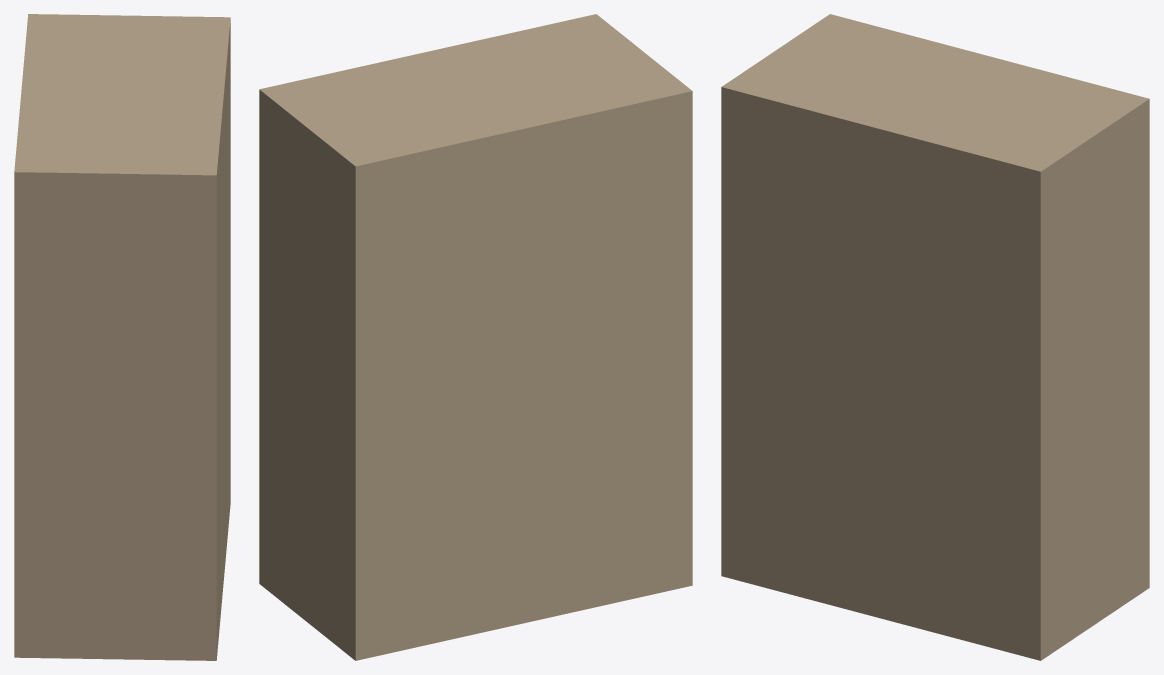
File: bld_101289705.dae
3 views of the same model, side by side, from view 1: azimuth 30°, elevation 25°; view 2: azimuth 150°, elevation 25°; view 3: azimuth 270°, elevation 25° (orthographic).
Parts seen in each view (by area): view 1: bld_101289705; view 2: bld_101289705; view 3: bld_101289705.
Boxes of the visible parts, box(x1,y1,x2,y2) form: bld_101289705: box(14, 14, 230, 660); bld_101289705: box(259, 14, 692, 660); bld_101289705: box(721, 14, 1149, 660).
Size of the model in its own units: 5.53 by 6.35 by 8.
